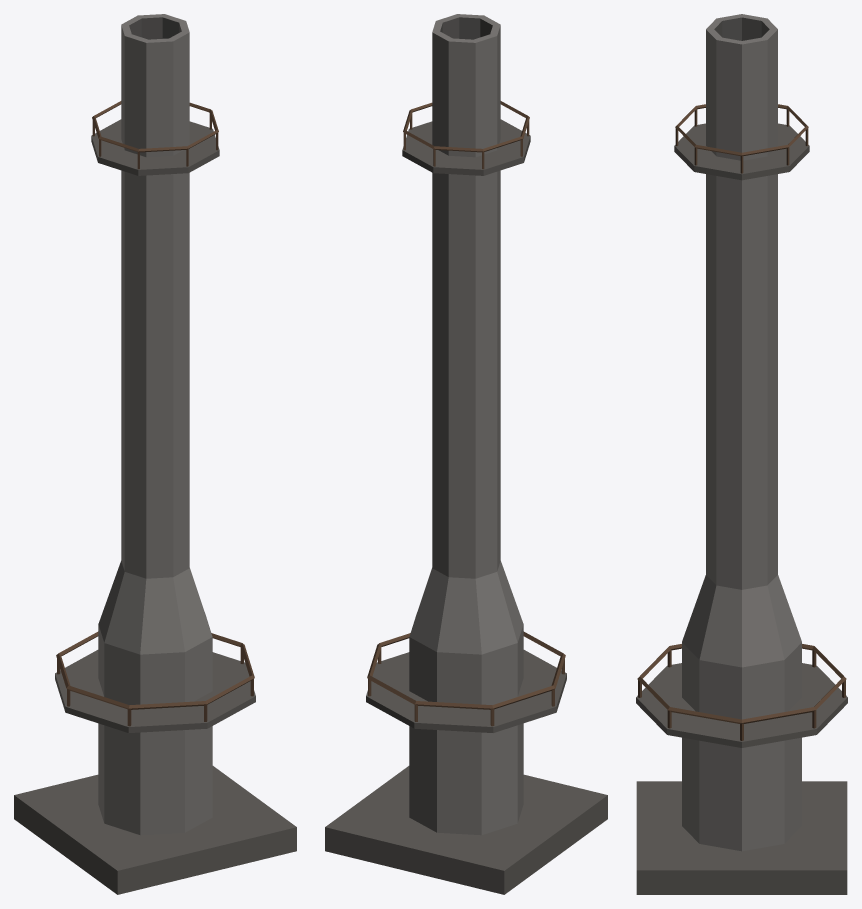
File: SM_Props_Industrial_Chimney_03.fbx
3 views of the same model, side by side, from view 1: azimuth 30°, elevation 25°; view 2: azimuth 150°, elevation 25°; view 3: azimuth 270°, elevation 25° (orthographic).
Parts seen in each view (by area): view 1: SM_Props_Industrial_Chimney_03; view 2: SM_Props_Industrial_Chimney_03; view 3: SM_Props_Industrial_Chimney_03.
Boxes of the visible parts, left/top/right/bottom form: SM_Props_Industrial_Chimney_03: left=14, top=14, right=296, bottom=894; SM_Props_Industrial_Chimney_03: left=325, top=14, right=607, bottom=894; SM_Props_Industrial_Chimney_03: left=636, top=14, right=847, bottom=894.
Size of the model in its own units: 313 by 1340 by 313.
